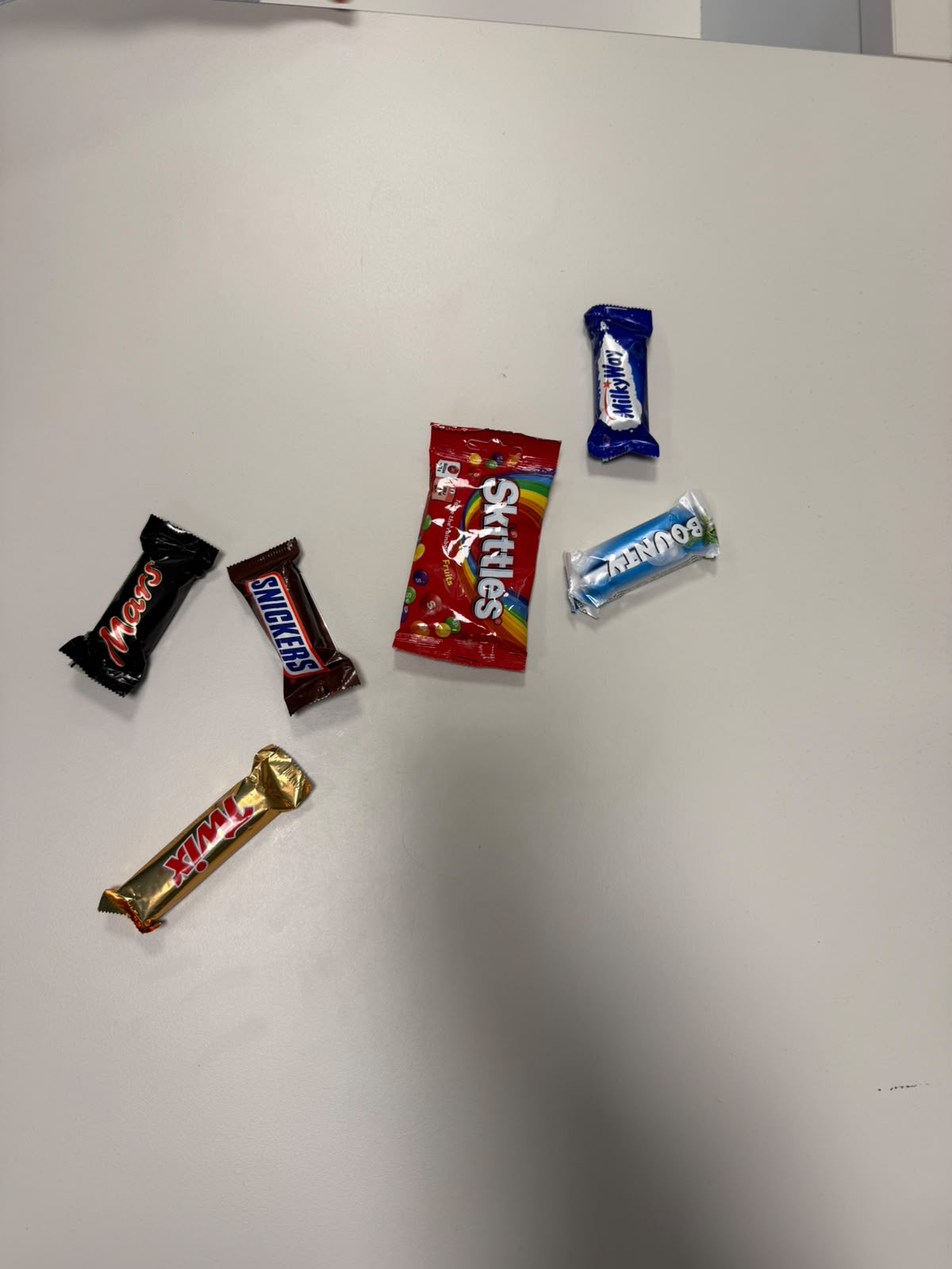Bounty: (542, 552, 725, 656)
Mars: (164, 483, 247, 709)
MilkyWay: (570, 289, 668, 470)
Skittles: (432, 387, 562, 672)
Snickers: (219, 567, 306, 743)
Twix: (285, 728, 357, 1013)
